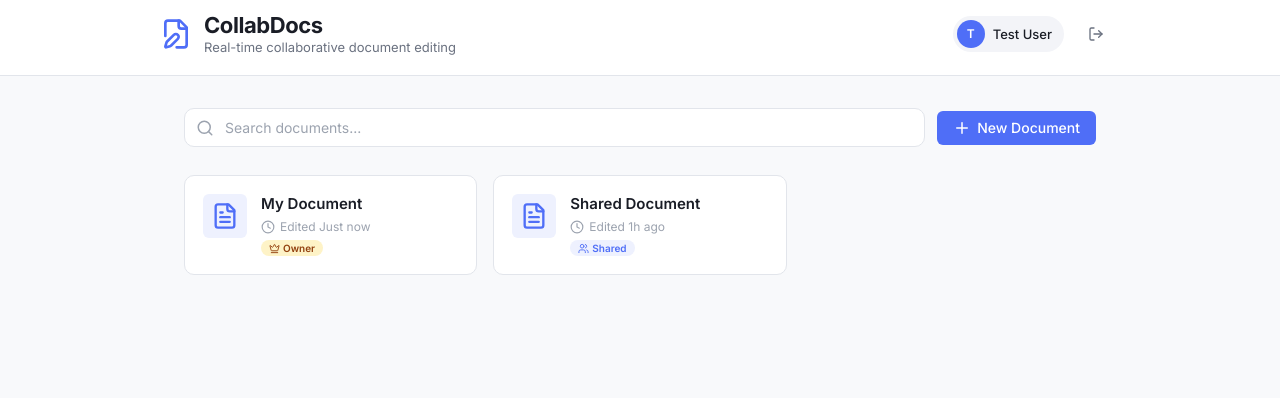
Test: HomePage › should show "No matching documents" when search has no results
This screenshot has width=1280, height=398.
Expected: the heading "My Document" is shown, x1=261 y1=194 x2=362 y2=213
Type "zzzzz" into the field with placeholder "Search documents..." at (555, 128), box x1=184 y1=108 x2=925 y2=147
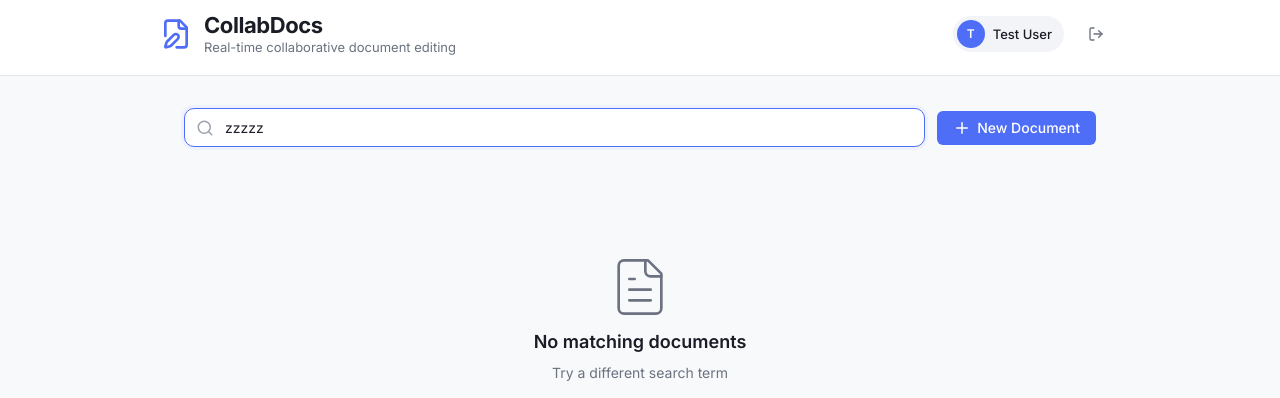
Expected: the heading "No matching documents" is shown, x1=534 y1=331 x2=746 y2=352
